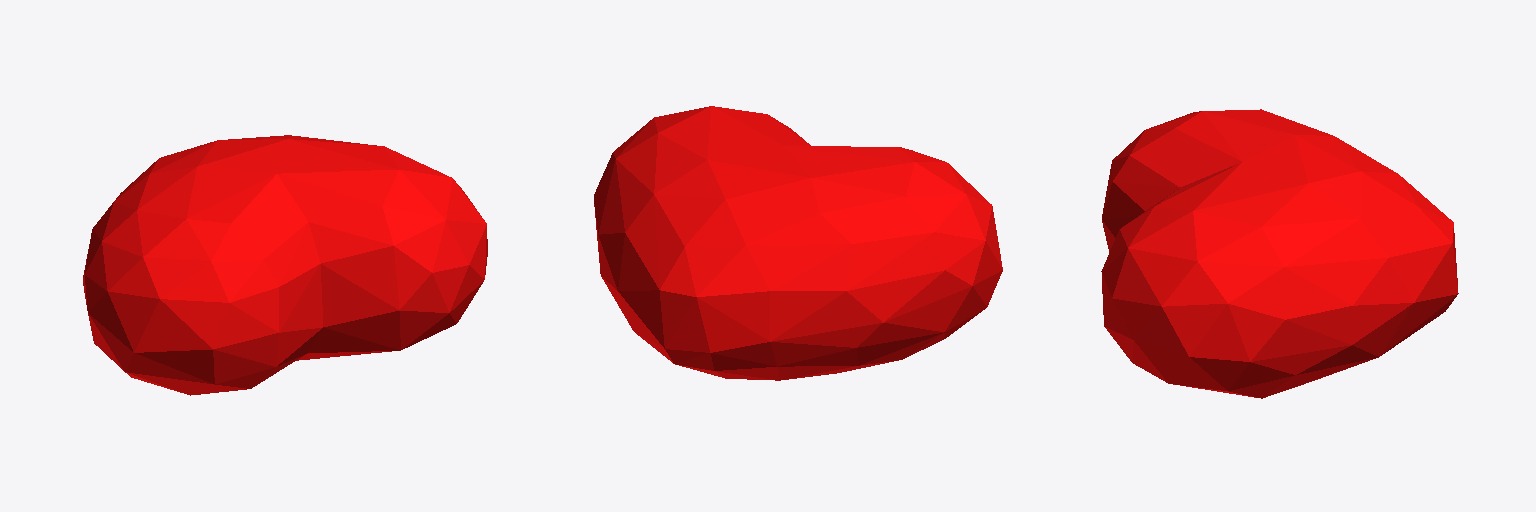
File: heart.obj
3 renders of one model, left to right at view 1: azimuth 30°, elevation 25°; view 2: azimuth 150°, elevation 25°; view 3: azimuth 270°, elevation 25°, orthographic.
Parts seen in each view (by area): view 1: Love; view 2: Love; view 3: Love.
Part boxes in pixels (left/top/right/bottom): Love: left=83, top=135, right=487, bottom=395; Love: left=594, top=106, right=1002, bottom=380; Love: left=1101, top=109, right=1458, bottom=398.
Bounding box in the file's own units: 1.76 × 0.8655 × 1.46.